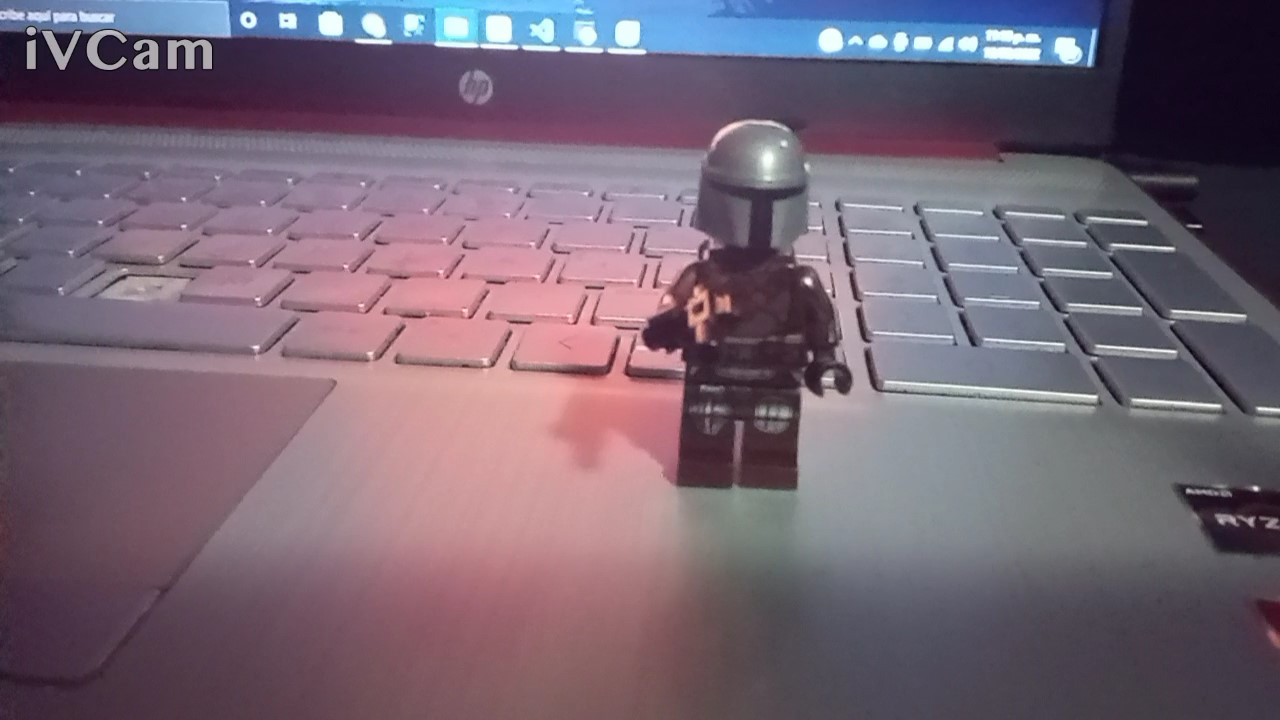mandalorian: (620, 93, 866, 516)
